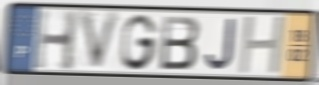B: (158, 14, 202, 72)
G: (119, 12, 160, 72)
H: (32, 7, 81, 73), (237, 14, 288, 77)
J: (204, 17, 237, 72)
V: (77, 8, 124, 74)
